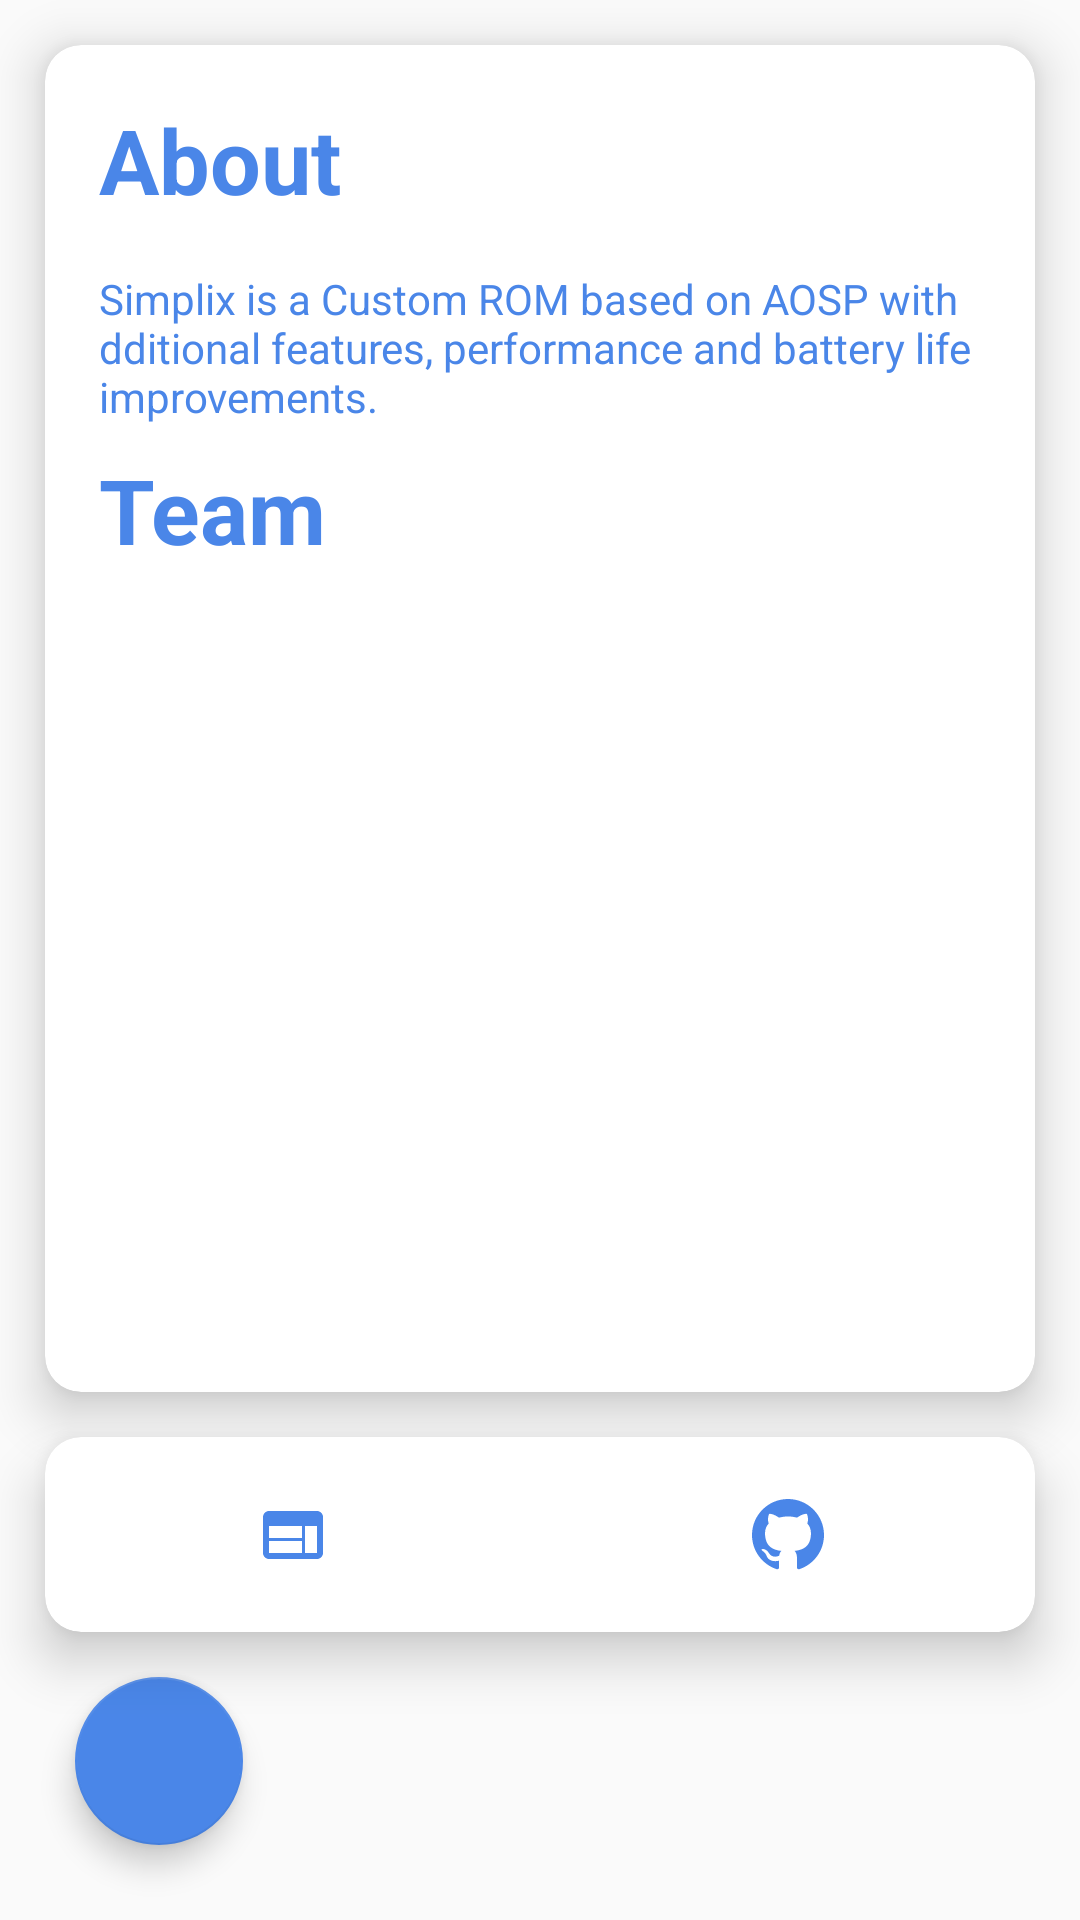

Icon bounding boxes for this 1080px×1920px phone screenshot, format (x1, y1, x2, y2):
web: (263, 1511, 323, 1559)
